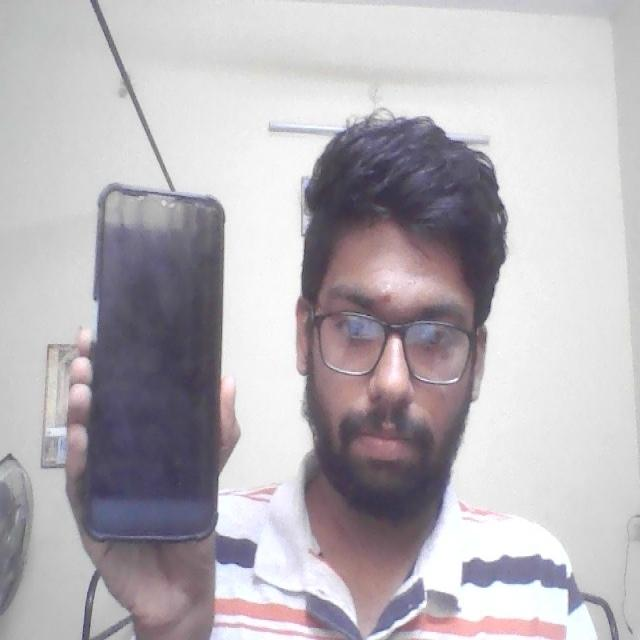Mobile: (76, 171, 231, 544)
